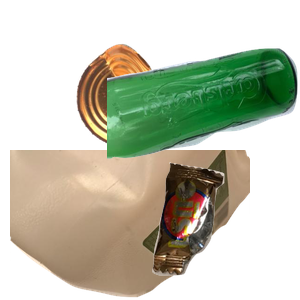glass: (107, 46, 300, 197)
metal: (74, 41, 229, 181)
plastic: (10, 150, 250, 300)
trash: (150, 160, 300, 300)
